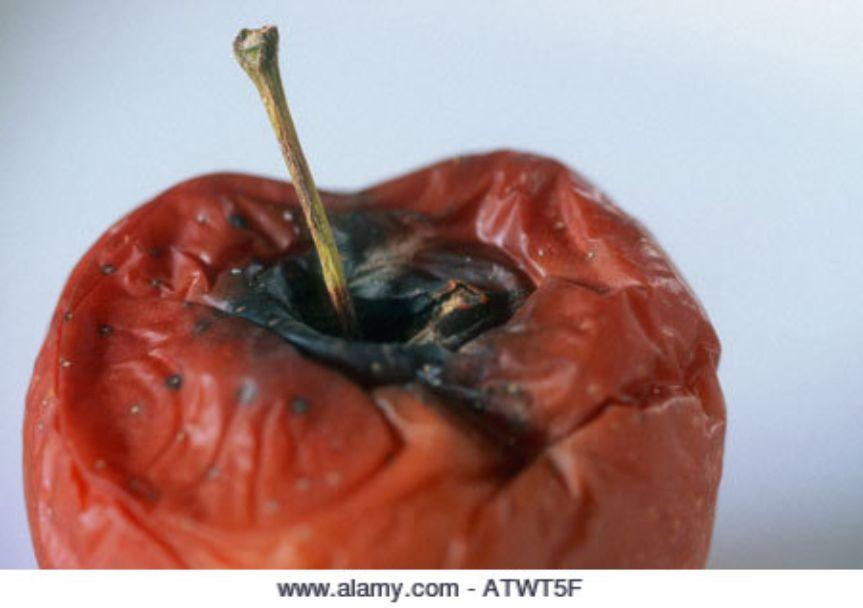ROT: (27, 108, 751, 589)
